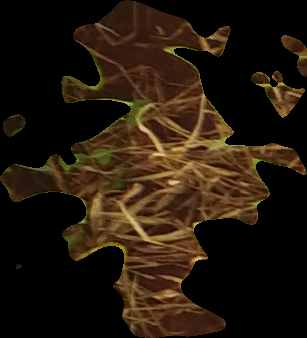soil: (1, 1, 307, 335)
